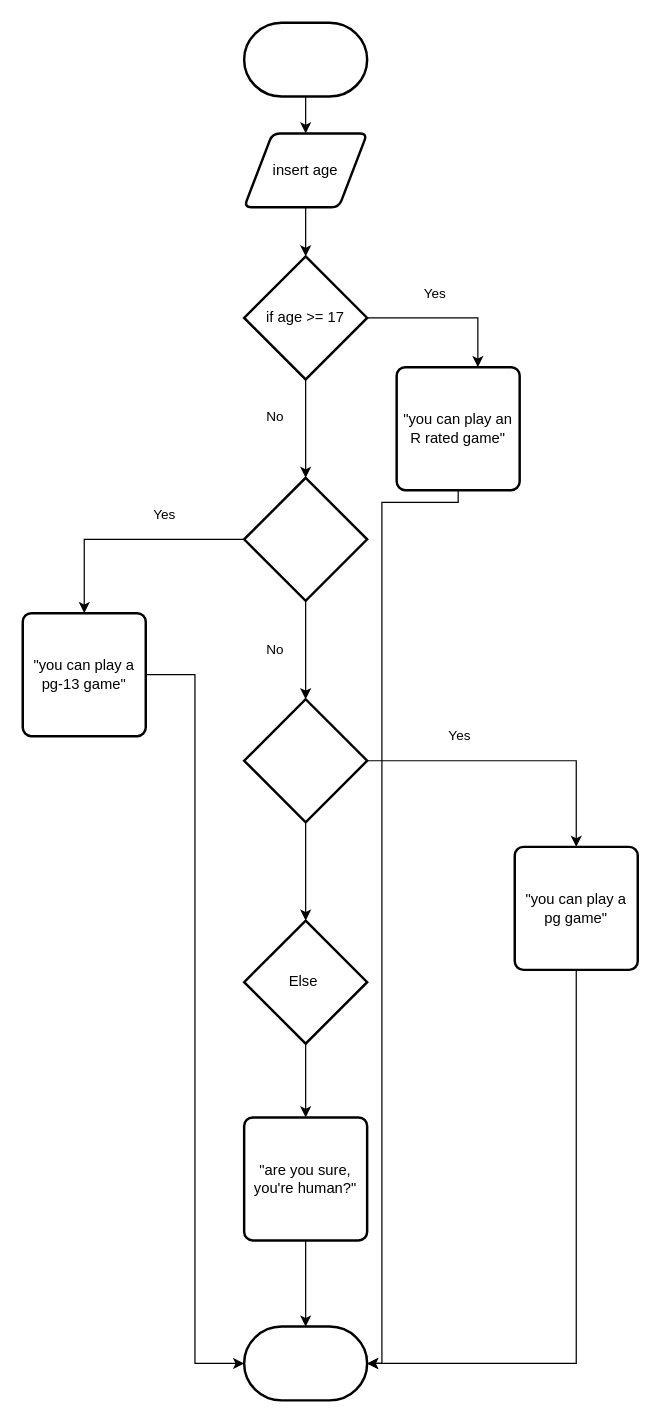
Image size: 659x1422. Some labels were removed from this diagram. The shapes that lost their labels are listed below. From the top down, each one's centre as x and y in pixels, then its label:
At [305,59]: "start".
At [305,538]: "Else if age >= 13".
At [305,760]: "Else if age >= 5".
At [305,1363]: "stop".
